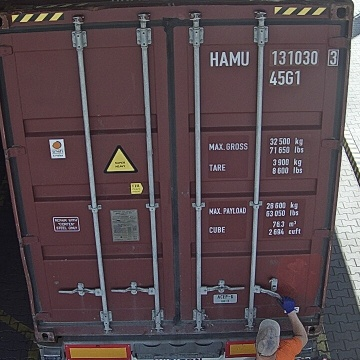serial_id: (210, 49, 338, 66)
